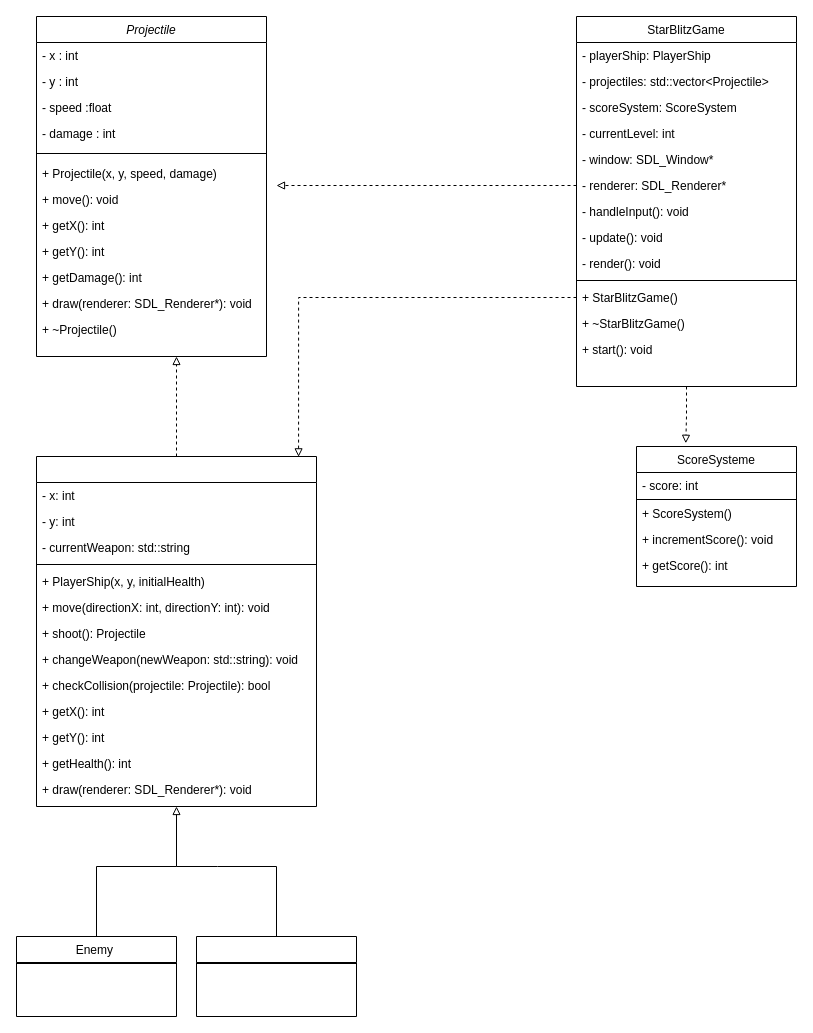
Image size: 813x1033. Some labels were removed from this diagram. The box of each missing label's shape, as (x1, y1, x2, y2) in pixels:
entité: (36, 456, 316, 806)
PlayerShip: (196, 936, 356, 1016)
